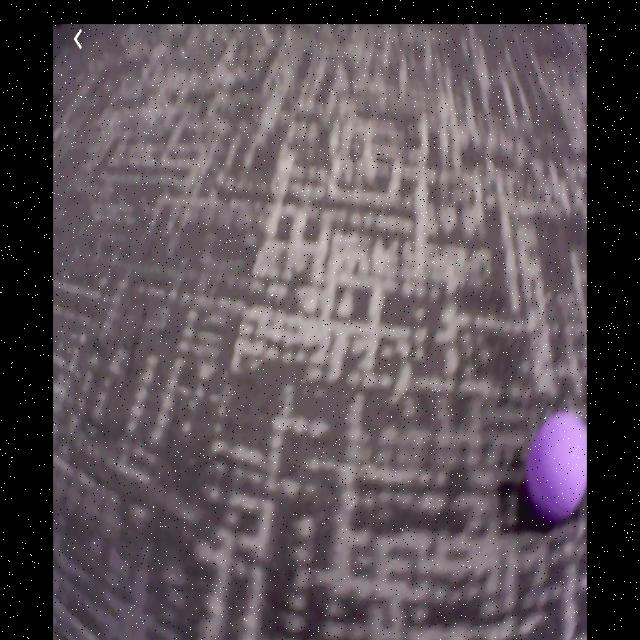ball: (530, 414, 588, 519)
